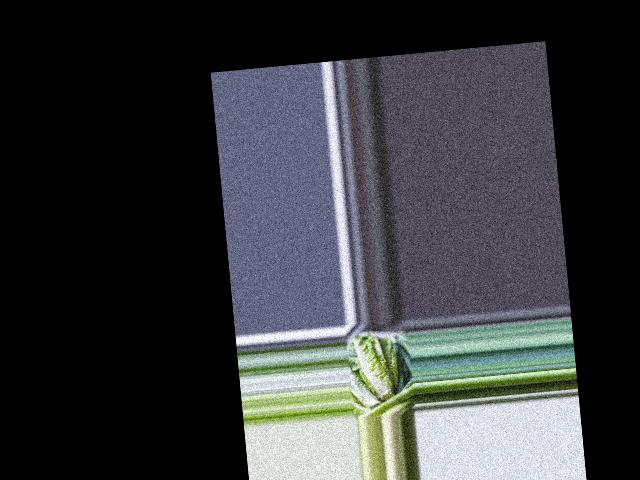lettuce: (352, 330, 401, 403)
